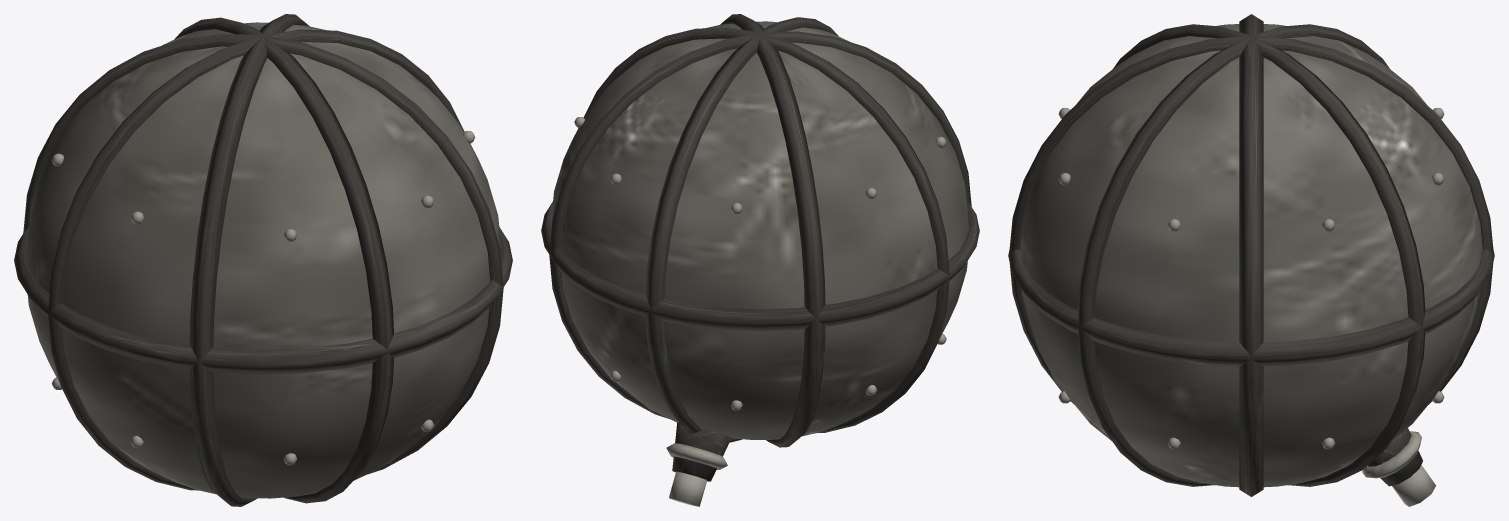
The model's file is bloon_lead.glb.
The picture shows the model from 3 angles, left to right: view 1: azimuth 30°, elevation 25°; view 2: azimuth 150°, elevation 25°; view 3: azimuth 270°, elevation 25°; orthographic projection. The views are drawn at different scales.
Visible parts, largest first — view 1: bloon_lead; view 2: bloon_lead; view 3: bloon_lead.
Boxes of the visible parts, x1,y1,x2,y2 form: bloon_lead: [14, 14, 512, 506]; bloon_lead: [541, 14, 979, 506]; bloon_lead: [1008, 14, 1494, 506].
Bounding box in the file's own units: 1.29 × 1.37 × 1.29.
Materials: 3 (2 with a texture image).
